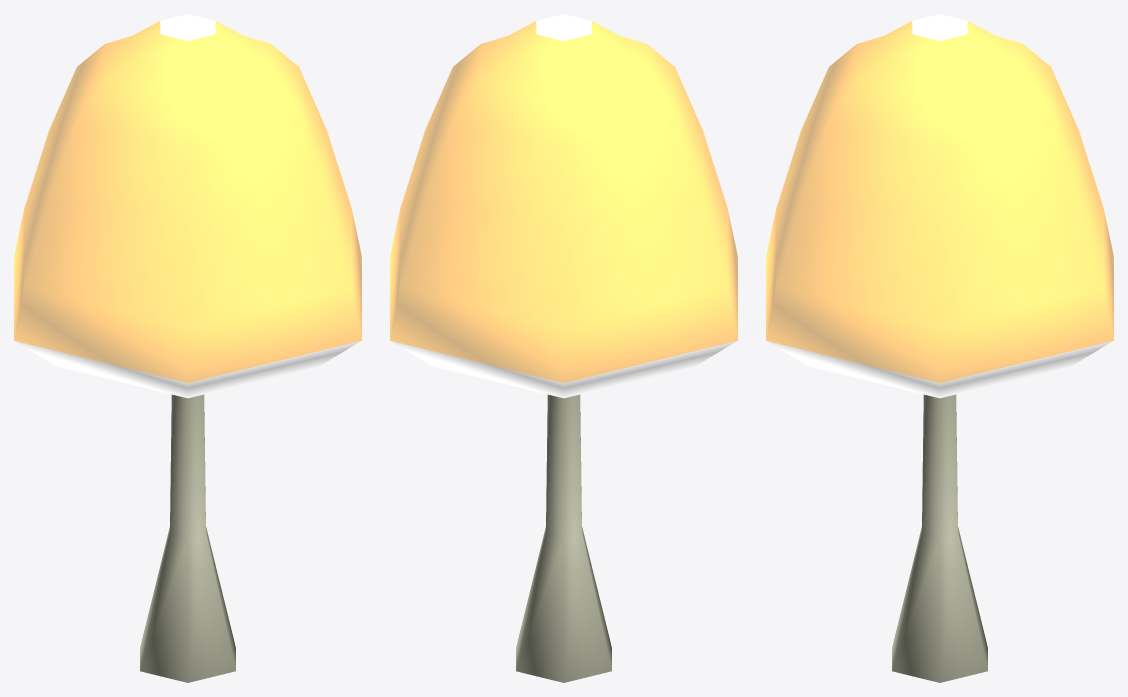
Rendered from KF_tall_mushroom.glb.
The picture shows the model from 3 angles, left to right: view 1: azimuth 30°, elevation 25°; view 2: azimuth 150°, elevation 25°; view 3: azimuth 270°, elevation 25°; orthographic projection.
Parts seen in each view (by area): view 1: tall_mushroom; view 2: tall_mushroom; view 3: tall_mushroom.
Part boxes in pixels (left/top/right/bottom): tall_mushroom: left=14, top=14, right=361, bottom=682; tall_mushroom: left=390, top=14, right=737, bottom=682; tall_mushroom: left=766, top=14, right=1113, bottom=682.
Size of the model in its own units: 3.52 by 6.11 by 3.05.
